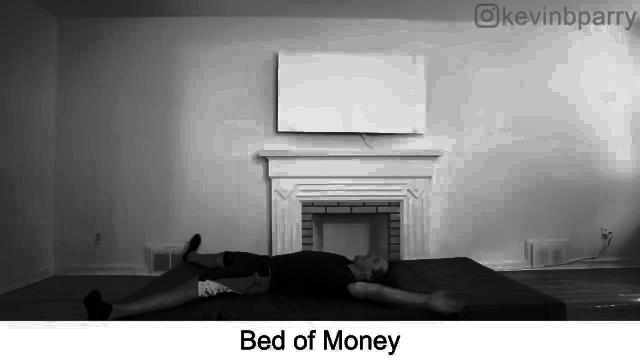jatuh: (73, 225, 474, 323)
